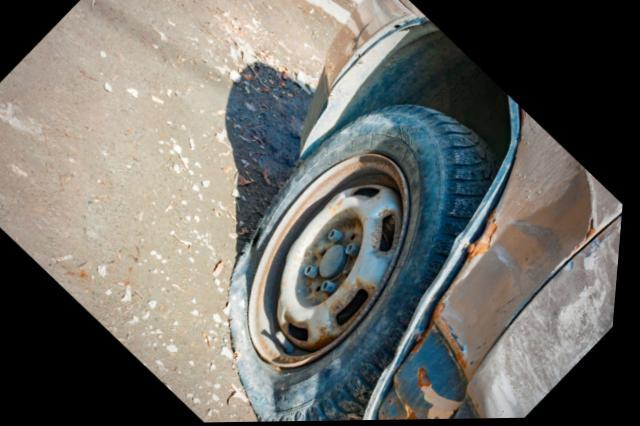tire flat: (230, 104, 496, 423)
